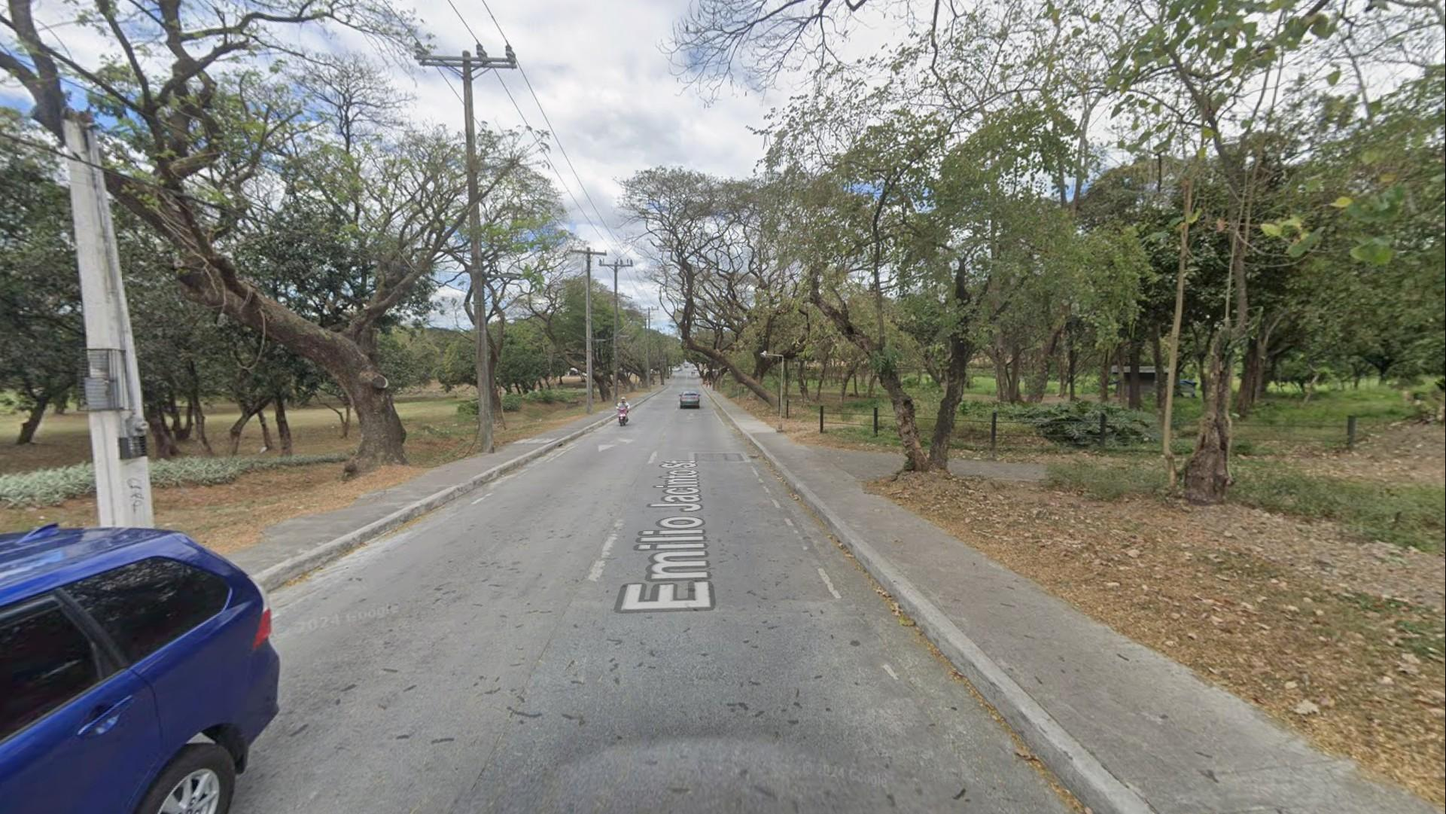pedestrian: (705, 381, 709, 388), (709, 381, 712, 388), (691, 371, 693, 376), (693, 371, 695, 376)
